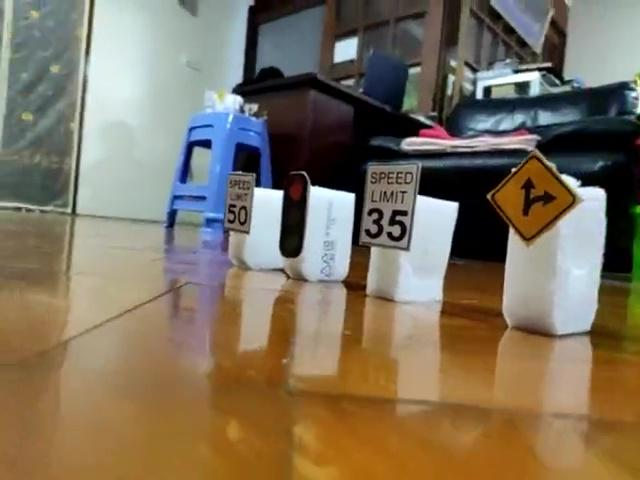Red Traffic Light: (277, 173, 313, 256)
Speed Limit 35: (358, 163, 423, 249)
Speed Limit 50: (224, 169, 259, 235)
Straight Or Right Sign: (492, 152, 579, 244)
